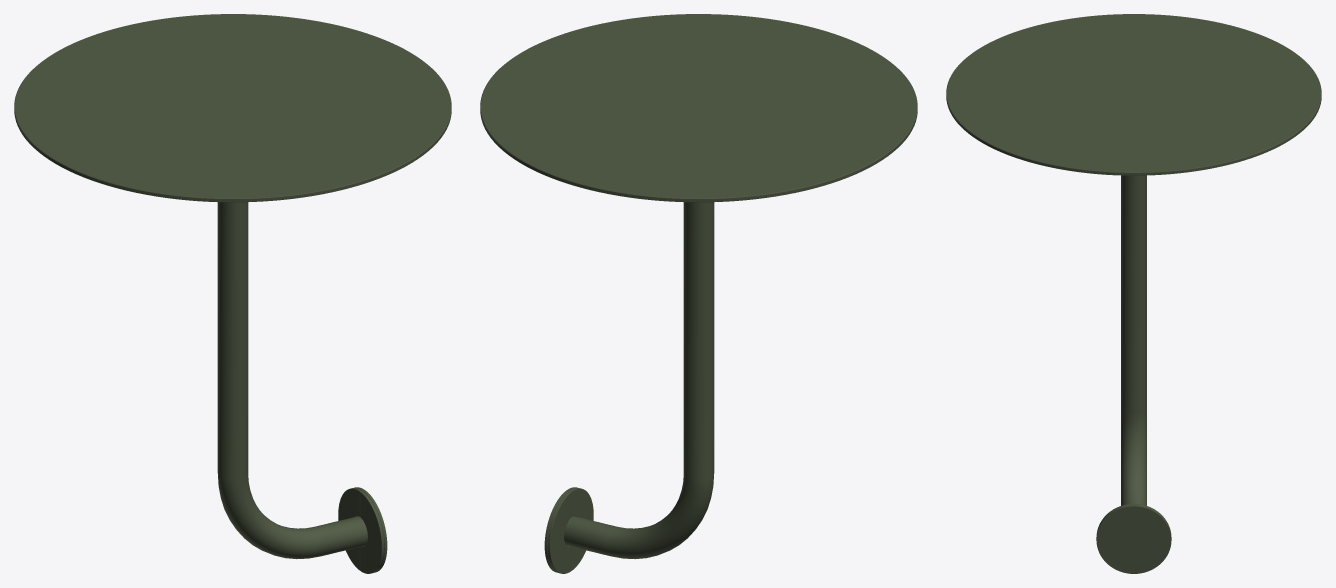
File: coffeetable_susp_circle.glb
The picture shows the model from 3 angles, left to right: view 1: azimuth 30°, elevation 25°; view 2: azimuth 150°, elevation 25°; view 3: azimuth 270°, elevation 25°; orthographic projection. The views are drawn at different scales.
Parts seen in each view (by area): view 1: rb_coffeetable_susp_circle_black; view 2: rb_coffeetable_susp_circle_black; view 3: rb_coffeetable_susp_circle_black.
Part boxes in pixels (box(x1,y1,x2,y2)): rb_coffeetable_susp_circle_black: box(14, 14, 451, 573); rb_coffeetable_susp_circle_black: box(480, 14, 917, 573); rb_coffeetable_susp_circle_black: box(946, 14, 1321, 573).
Size of the model in its own units: 0.4 by 0.5 by 0.4.
